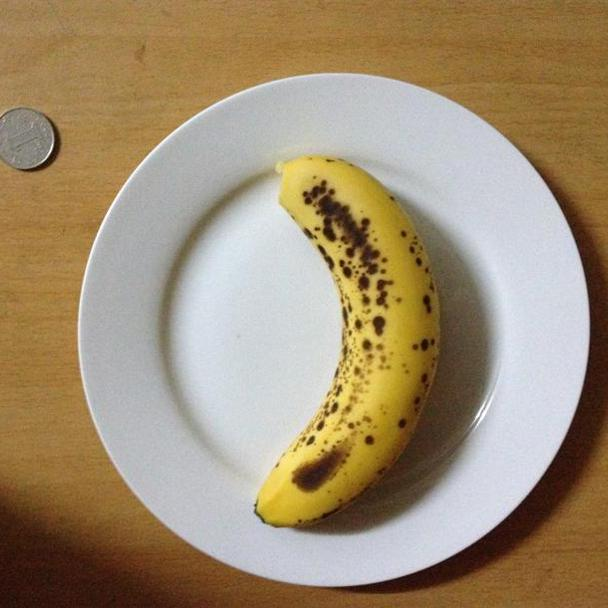banana: (252, 155, 449, 530)
